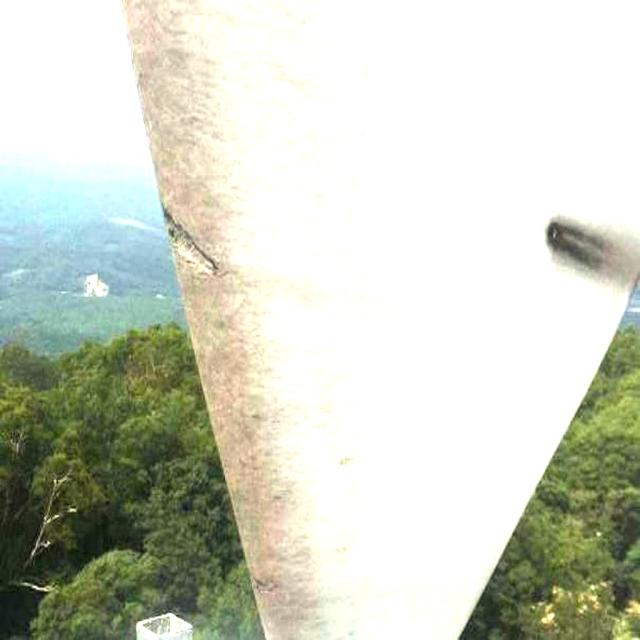corrosion: (165, 204, 224, 278)
crack: (544, 212, 625, 279)
